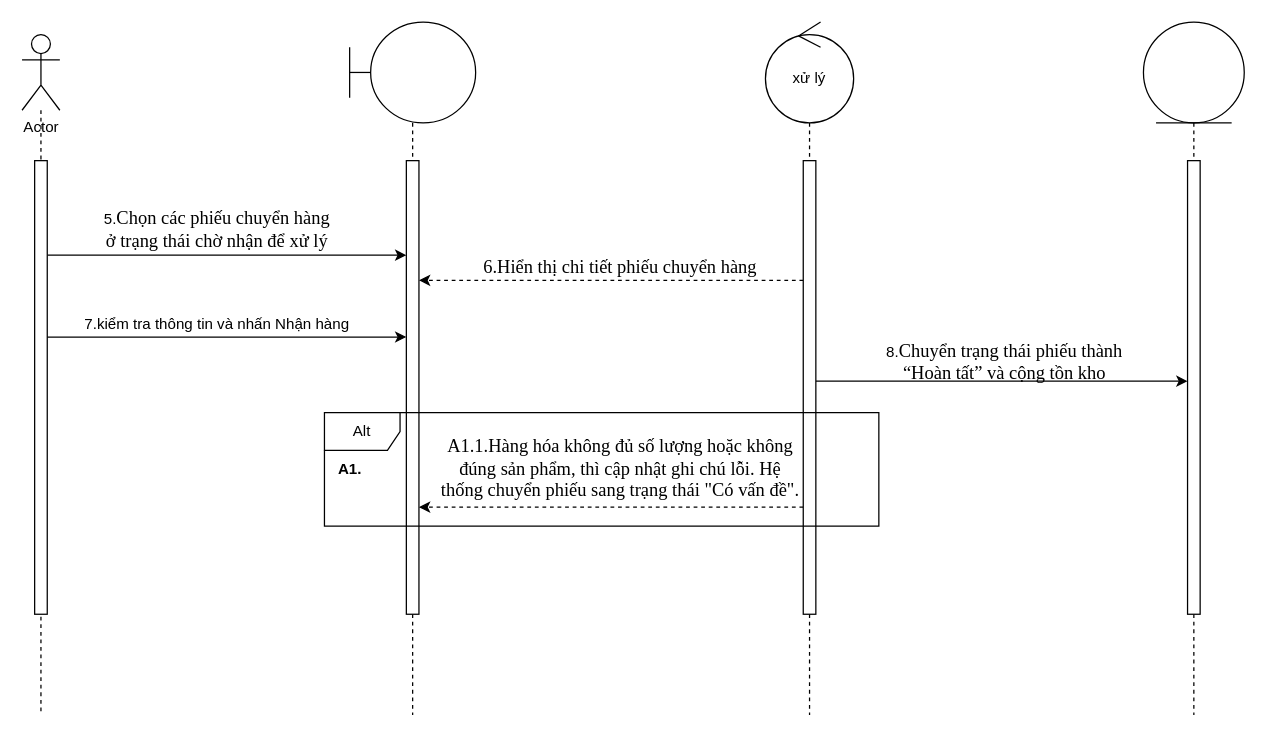
Image size: 1266x738. Some labels were removed from this diagram. The centre of each missing label's shape, as x and y in pixels:
"database" goes at pixel 1193 72.
"Nhập hàng chi nhánh khác" goes at pixel 412 72.
